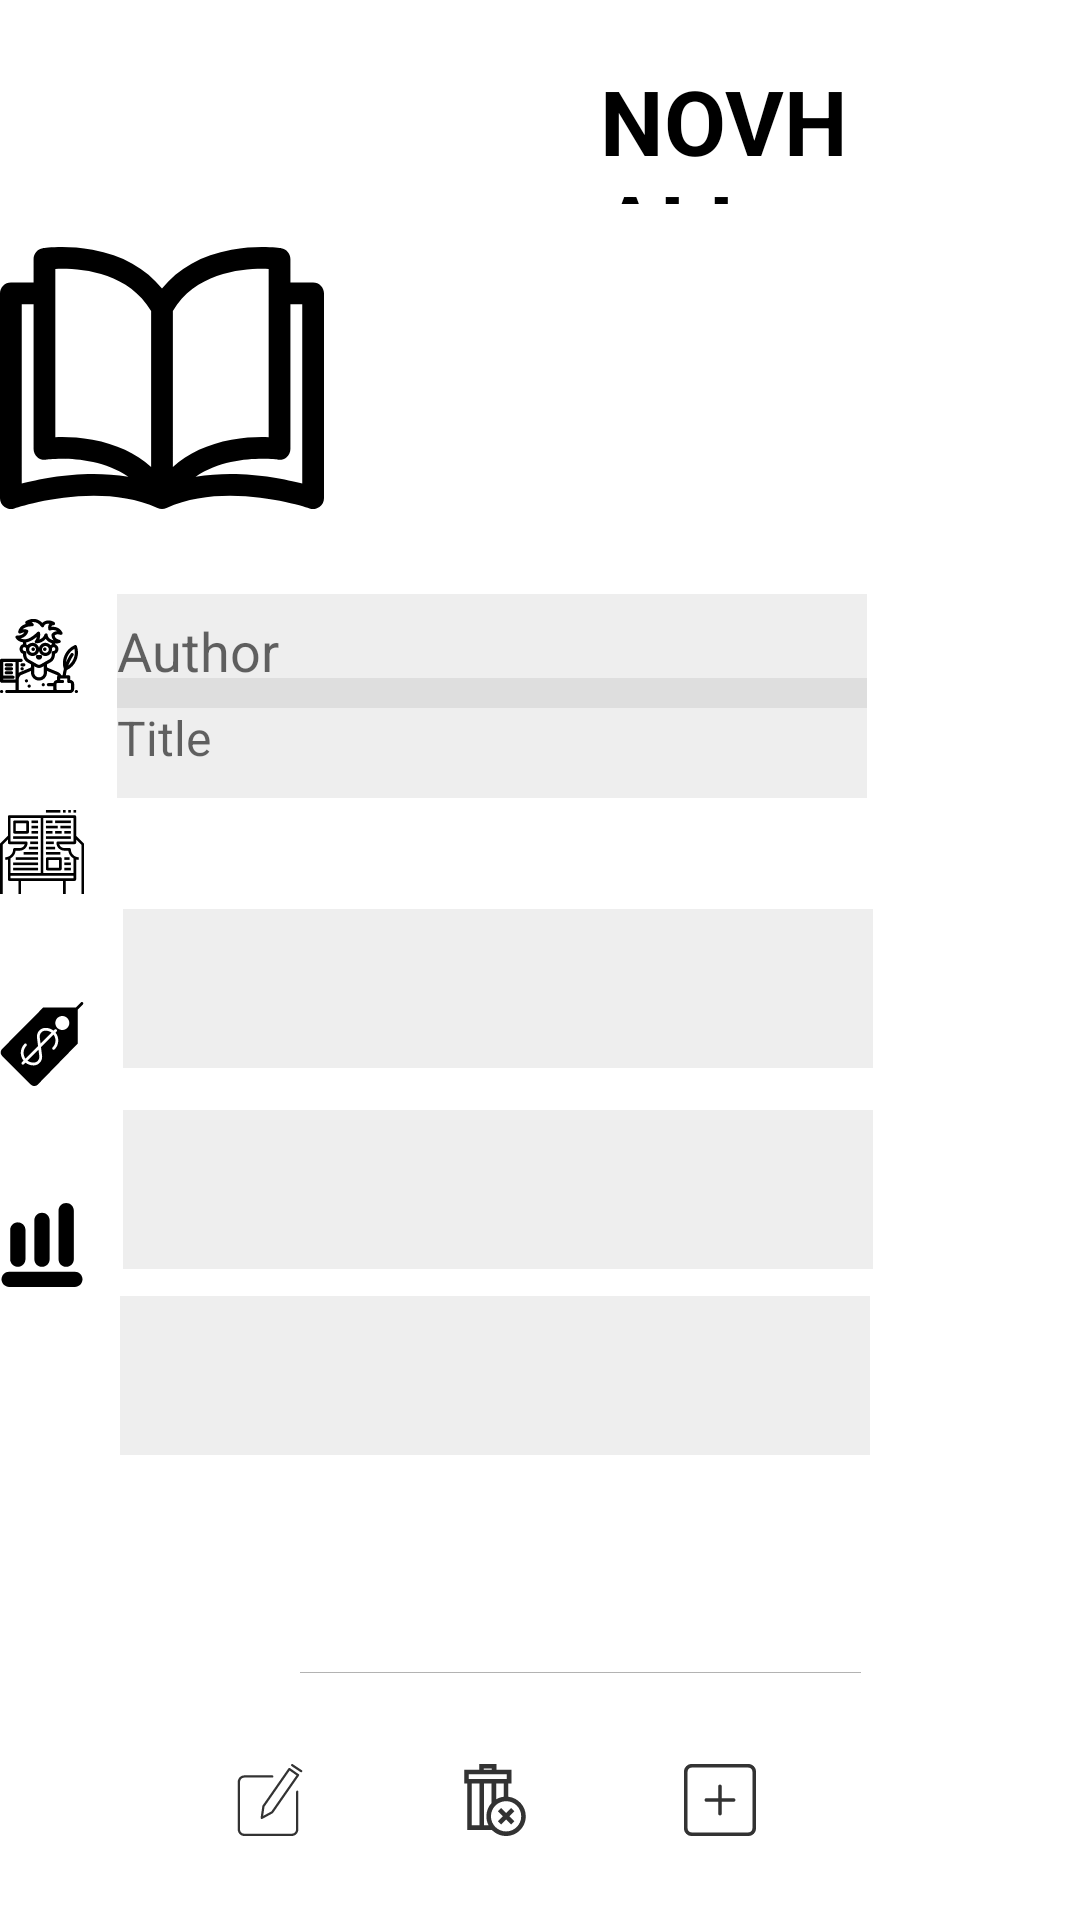

Where icons sit on this 1080x1920 app screen, as (x1, y1, x2, y2):
delete: (464, 1764, 526, 1836)
edit: (237, 1764, 303, 1836)
open book: (0, 247, 324, 509)
price tag: (0, 1002, 84, 1086)
reading: (0, 810, 84, 894)
stock increase: (1, 1203, 83, 1287)
writer: (0, 619, 78, 693)
